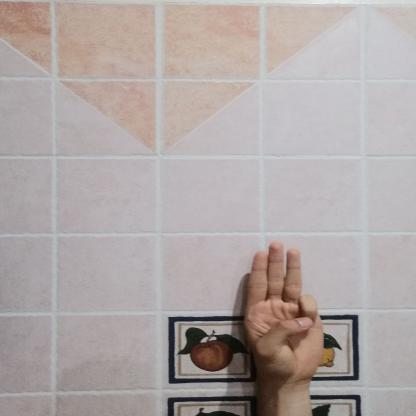THA: (230, 238, 329, 389)
